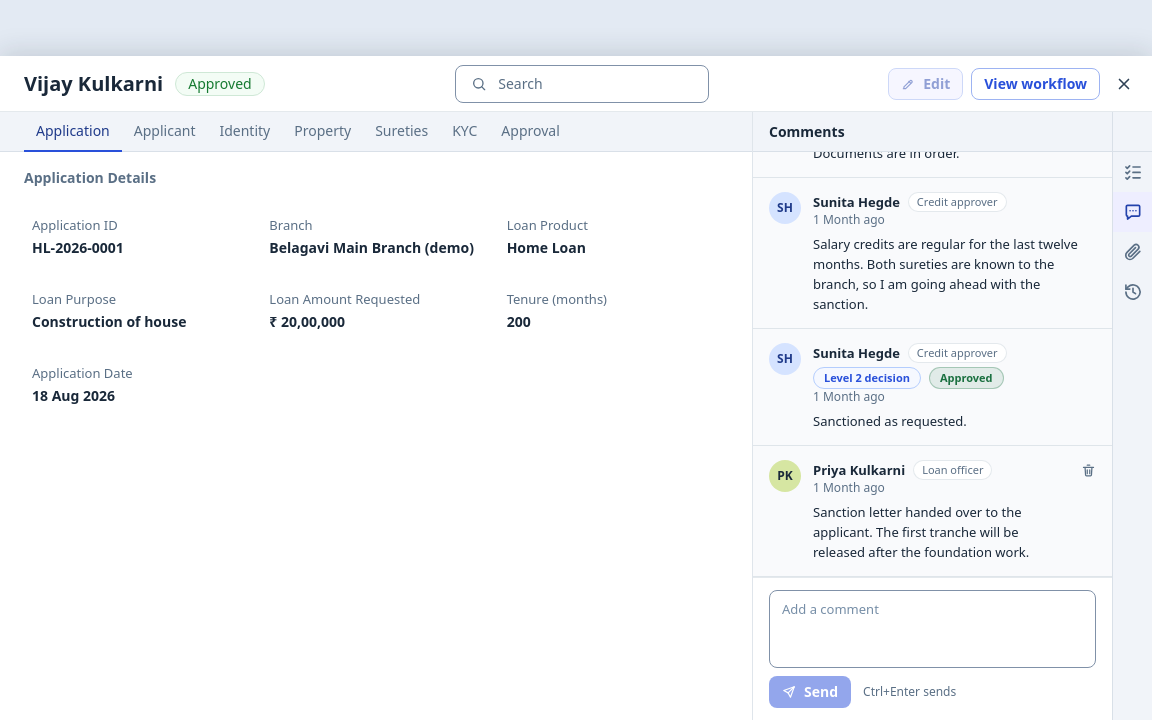
Scenario: the panel › has a full history for an approved application, newest first
(page scrolled)
Click the button named "Audit Log". click: [1132, 292]
box: [1113,272,1151,312]
(page scrolled)
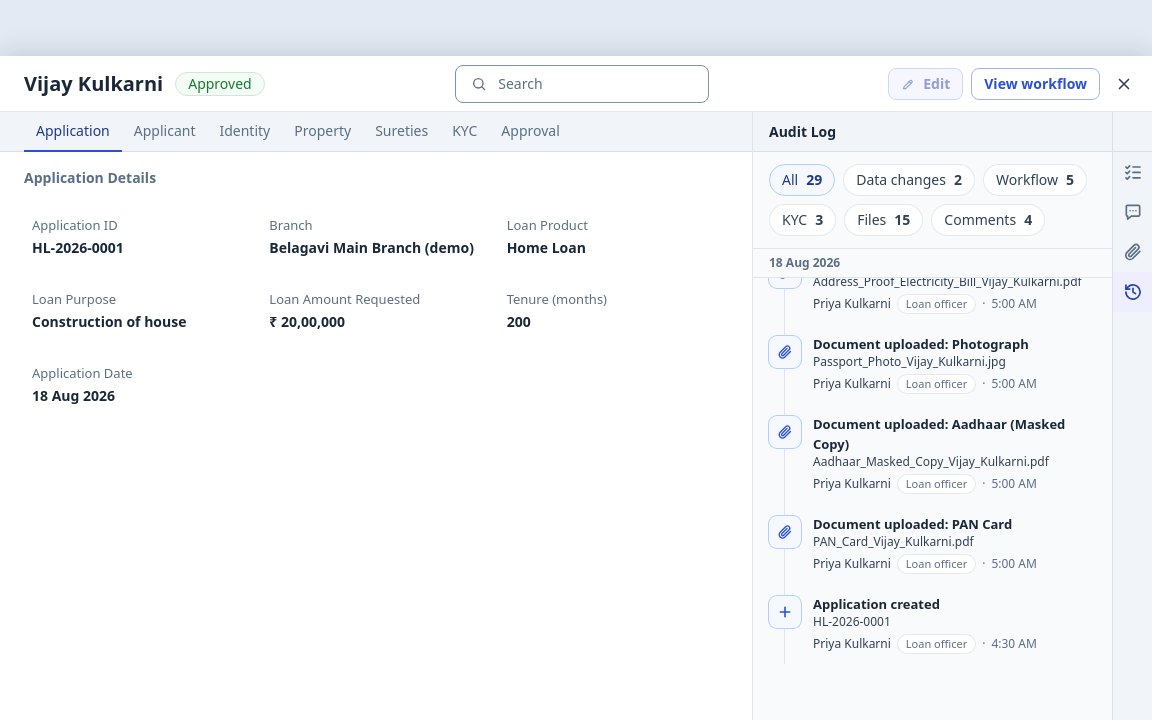
Check: the text "Application created" is shown, box [813,595,940,613]
